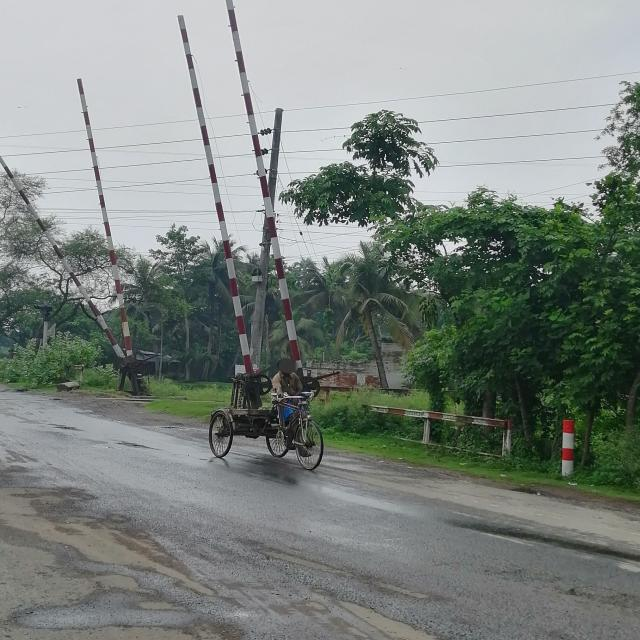Van: (178, 385, 370, 495)
